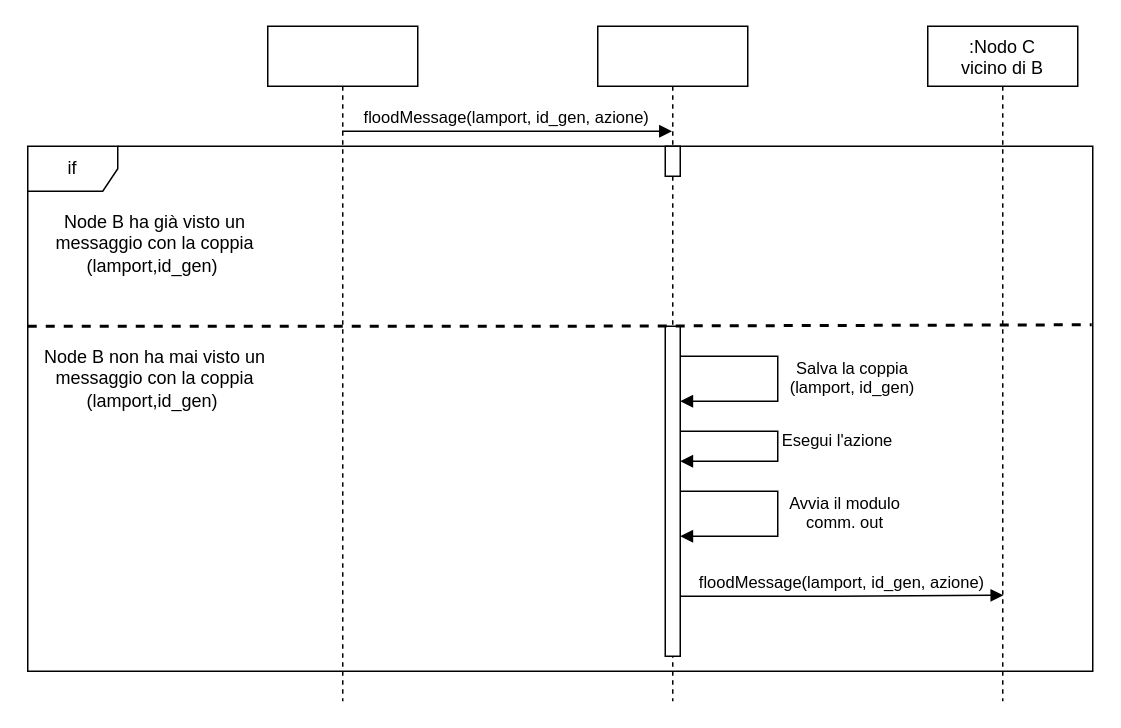
Image size: 1121x728. Some labels were removed from this diagram. The box of each missing label's shape, as (x1, y1, x2, y2) in pixels:
:Nodo A: (266, 25, 418, 701)
:Nodo B vicino di A: (596, 25, 748, 701)
